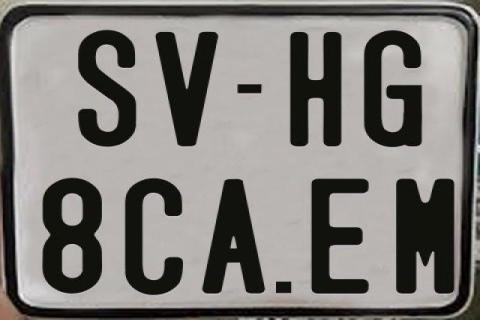0: (39, 176, 103, 293)
A: (202, 178, 266, 294)
C: (122, 176, 184, 294)
E: (311, 176, 373, 296)
G: (362, 30, 421, 148)
H: (290, 29, 346, 149)
M: (395, 178, 456, 296)
S: (77, 30, 137, 146)
V: (156, 30, 224, 144)
